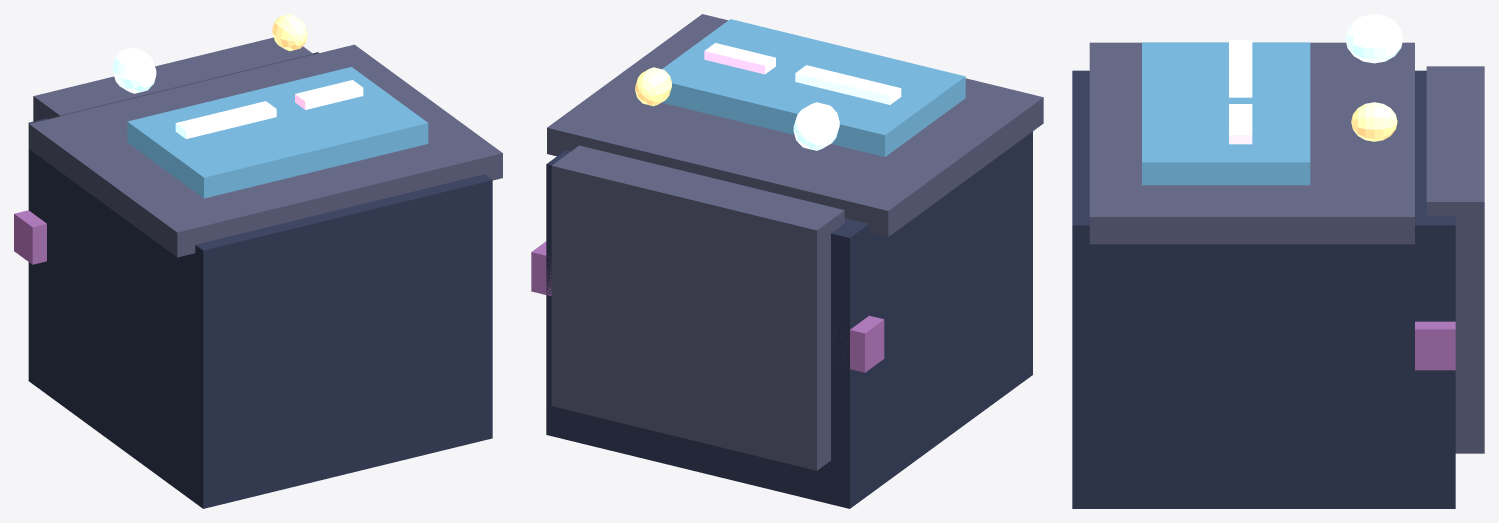
Rendered from ObservatoryConsole_v09.glb.
3 views of the same model, side by side, from view 1: azimuth 30°, elevation 25°; view 2: azimuth 150°, elevation 25°; view 3: azimuth 270°, elevation 25° (orthographic). The views are drawn at different scales.
Visible parts, largest first — view 1: ObservatoryConsole; view 2: ObservatoryConsole; view 3: ObservatoryConsole.
Part boxes in pixels (x1,y1,x2,y2): ObservatoryConsole: (14, 14, 502, 508); ObservatoryConsole: (531, 14, 1043, 508); ObservatoryConsole: (1072, 14, 1484, 508).
Bounding box in the file's own units: 1 × 1 × 1.
